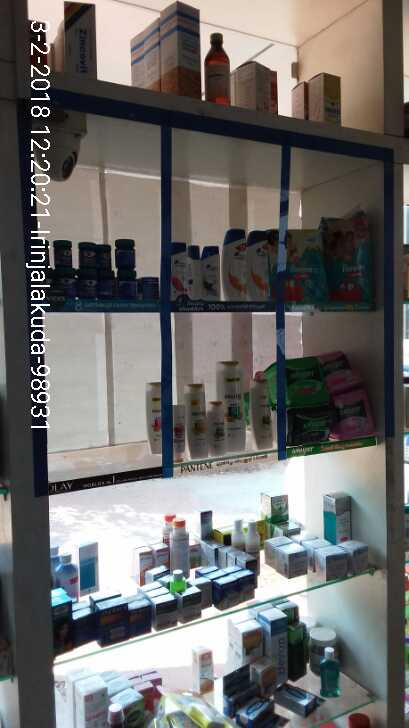vicks: (47, 231, 157, 298)
